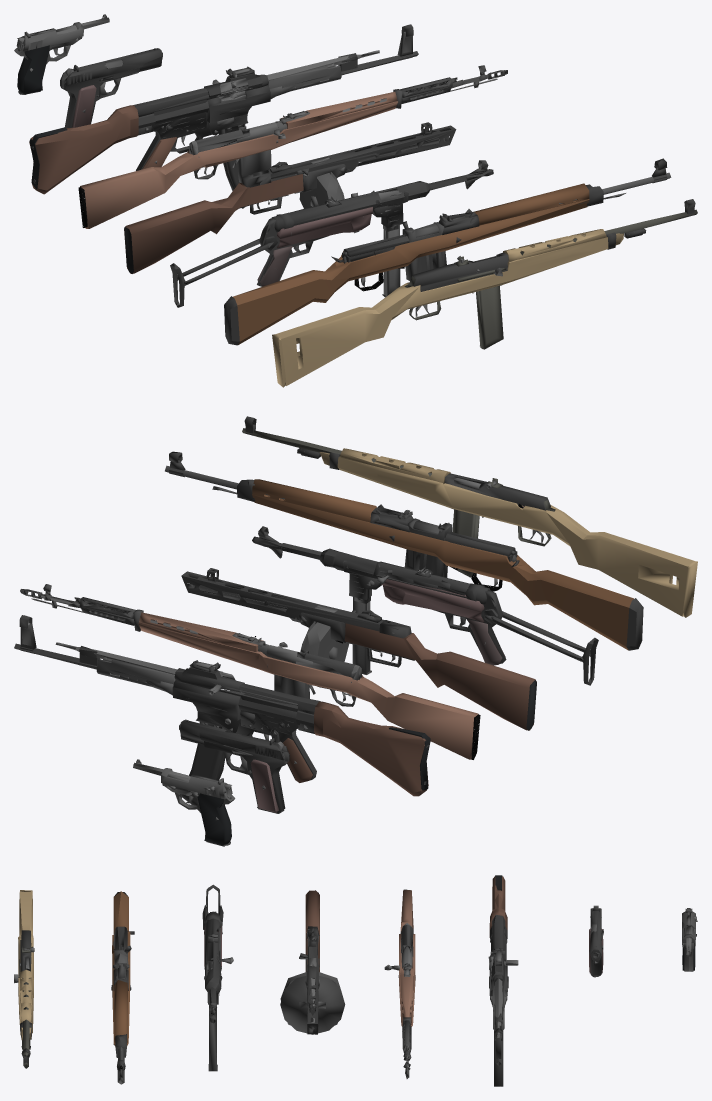
File: all_dec.fbx
The picture shows the model from 3 angles, top to bottom: view 1: azimuth 30°, elevation 25°; view 2: azimuth 150°, elevation 25°; view 3: azimuth 270°, elevation 25°; orthographic projection. The views are drawn at different scales.
Visible parts, largest first — view 1: STG Dec, Beretta 57 Dec, GWR Dec, SKS Dec, PPSH Dec, MP40 Dec, Tokarev Dec, Walter Dec; view 2: STG Dec, GWR Dec, Beretta 57 Dec, SKS Dec, PPSH Dec, MP40 Dec, Tokarev Dec, Walter Dec; view 3: PPSH Dec, STG Dec, GWR Dec, Beretta 57 Dec, SKS Dec, MP40 Dec, Tokarev Dec, Walter Dec.
Boxes of the visible parts, x1,y1,x2,y2 form: STG Dec: (29,24,418,208); Beretta 57 Dec: (272,199,697,387); GWR Dec: (224,158,671,345); SKS Dec: (78,65,507,228); PPSH Dec: (124,122,456,273); MP40 Dec: (170,160,493,307); Tokarev Dec: (60,48,162,127); Walter Dec: (14,14,109,94); STG Dec: (14,615,430,805); GWR Dec: (165,451,643,650); Beretta 57 Dec: (242,416,697,617); SKS Dec: (20,584,480,759); PPSH Dec: (181,568,536,730); MP40 Dec: (252,526,598,685); Tokarev Dec: (179,719,289,813); Walter Dec: (133,759,235,846); PPSH Dec: (280,890,345,1034); STG Dec: (488,875,518,1086); GWR Dec: (111,891,134,1084); Beretta 57 Dec: (14,890,34,1068); SKS Dec: (384,889,415,1078); MP40 Dec: (202,884,233,1071); Tokarev Dec: (589,905,603,977); Walter Dec: (682,908,697,971).
Bounding box in the file's own units: 525 × 157 × 720.
